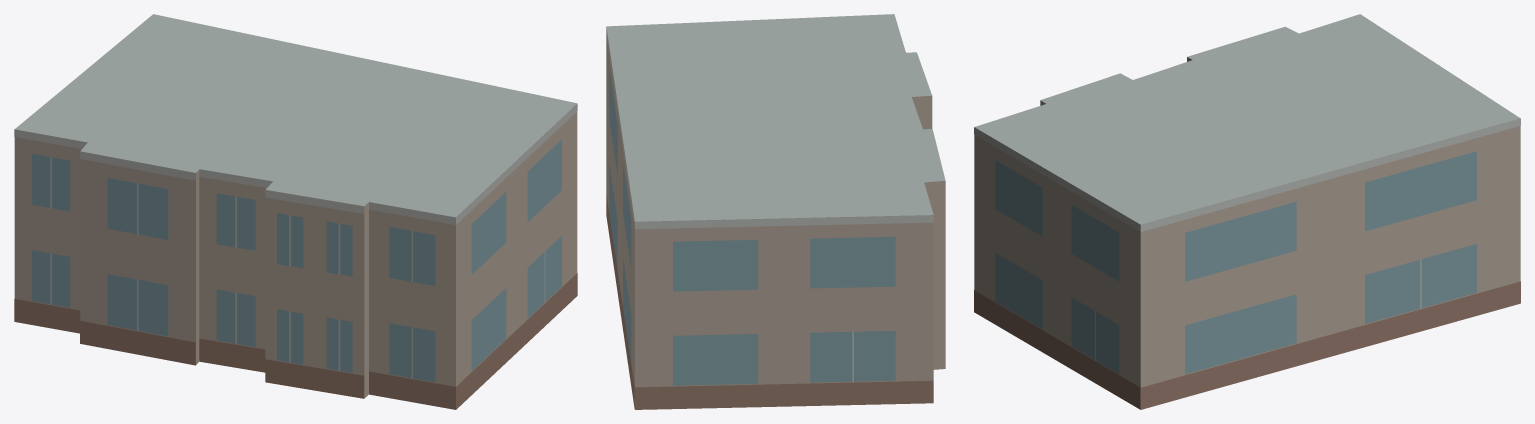
The model's file is survey-upis-32511120.glb.
3 renders of one model, left to right at view 1: azimuth 30°, elevation 25°; view 2: azimuth 150°, elevation 25°; view 3: azimuth 270°, elevation 25°, orthographic. The views are drawn at different scales.
Parts seen in each view (by area): view 1: survey-upis-32511120.tmp; view 2: survey-upis-32511120.tmp; view 3: survey-upis-32511120.tmp.
Part boxes in pixels (x1,y1,x2,y2): survey-upis-32511120.tmp: (14, 14, 577, 409); survey-upis-32511120.tmp: (606, 14, 945, 409); survey-upis-32511120.tmp: (974, 14, 1520, 409).
Bounding box in the file's own units: 14.9 × 6.1 × 16.33.
